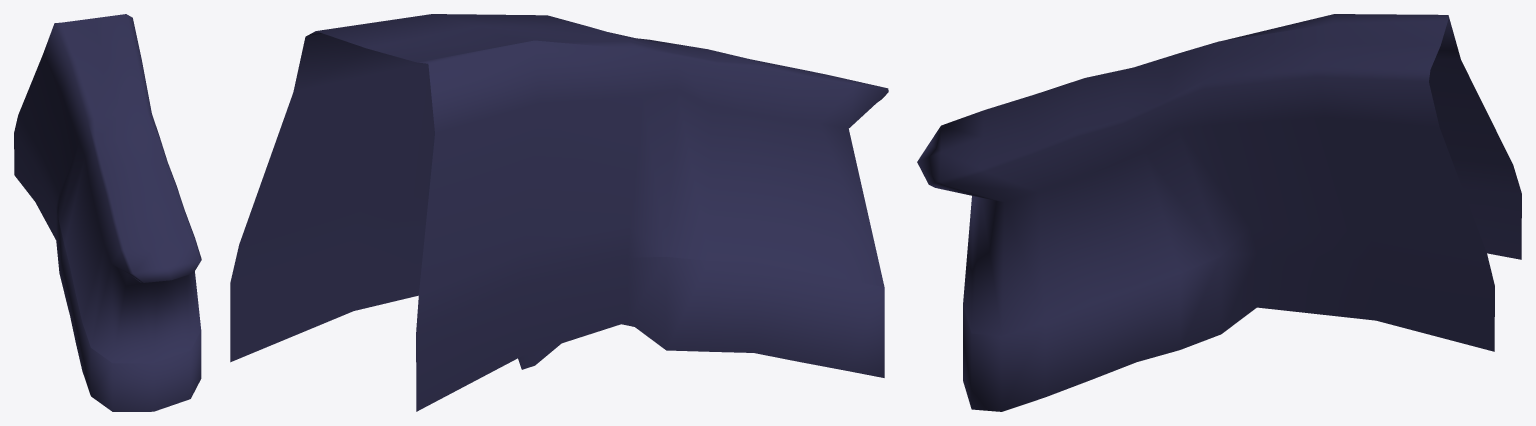
Rendered from LastRamp.fbx.
3 views of the same model, side by side, from view 1: azimuth 30°, elevation 25°; view 2: azimuth 150°, elevation 25°; view 3: azimuth 270°, elevation 25° (orthographic). The views are drawn at different scales.
Parts seen in each view (by area): view 1: LastRamp; view 2: LastRamp; view 3: LastRamp.
Boxes of the visible parts, x1,y1,x2,y2 form: LastRamp: (14,14,201,411); LastRamp: (230,14,888,411); LastRamp: (917,14,1521,411).
Size of the model in its own units: 980 by 1256 by 1685.
